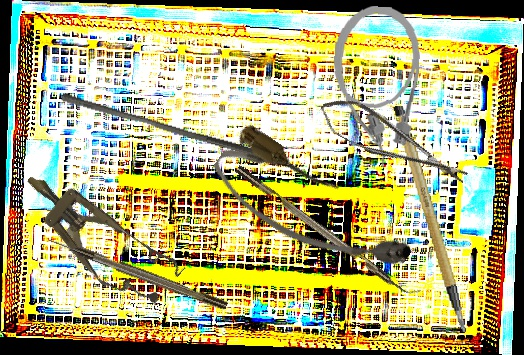Cannula: (203, 119, 421, 300), (327, 3, 423, 170)
Chopper: (234, 156, 423, 304)
Hook Surgical: (46, 233, 229, 313)
Micro Scissor: (313, 87, 473, 200)
Pusher: (58, 92, 273, 161)
Scalpel Handle: (389, 100, 468, 339)
Speculum: (7, 152, 187, 319)
